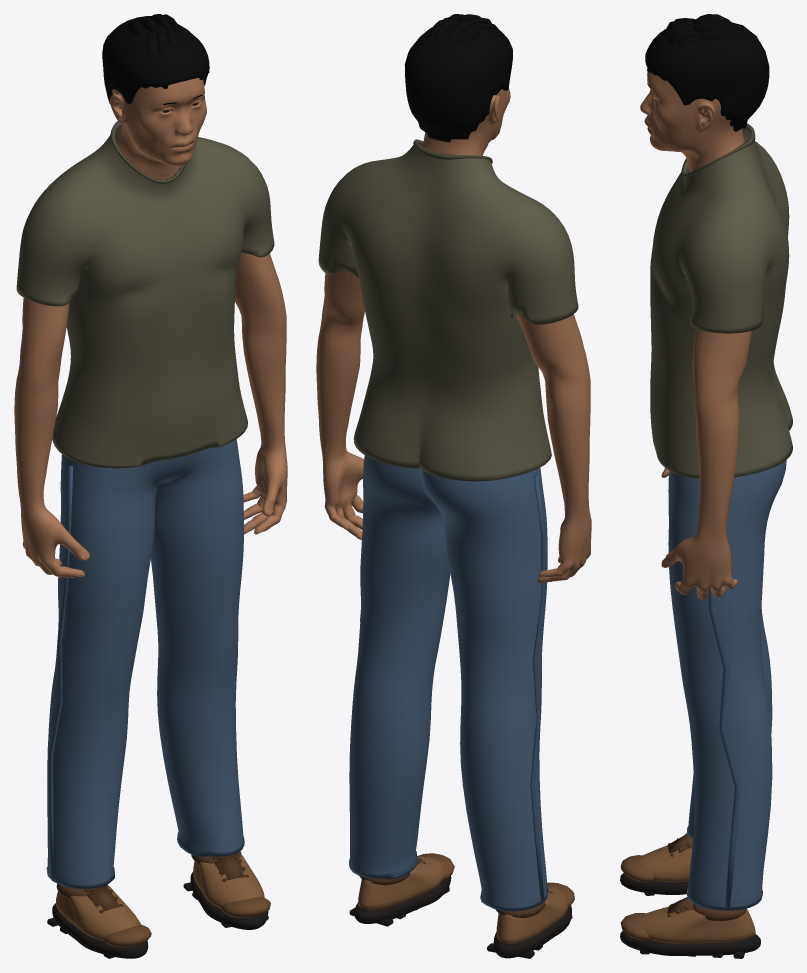
Rendered from alex_wen_set01.glb.
The picture shows the model from 3 angles, left to right: view 1: azimuth 30°, elevation 25°; view 2: azimuth 150°, elevation 25°; view 3: azimuth 270°, elevation 25°; orthographic projection.
Visible parts, largest first — view 1: Legs_Jeans, Torso_TShirt, Arms_Skin, Head_Skin, Head_Hair_Cap, Legs_Shoe_Upper_R, Legs_Shoe_Upper_L, Legs_Jeans_Outseam_R, Legs_Shoe_Sole_R, Legs_Shoe_Sole_L, Legs_Shoe_ToeCap_L, Legs_Shoe_ToeCap_R; view 2: Legs_Jeans, Torso_TShirt, Arms_Skin, Head_Hair_Cap, Legs_Shoe_Upper_L, Legs_Jeans_Outseam_R, Head_Skin, Legs_Shoe_Upper_R, Legs_Shoe_Sole_L, Legs_Shoe_Sole_R; view 3: Torso_TShirt, Legs_Jeans, Arms_Skin, Head_Hair_Cap, Head_Skin, Legs_Shoe_Upper_L, Legs_Jeans_Outseam_L, Legs_Shoe_Sole_L, Legs_Shoe_Upper_R, Legs_Shoe_Sole_R, Legs_Shoe_ToeCap_R, Legs_Shoe_ToeCap_L (+2 smaller).
Part boxes in pixels (x1,y1,x2,y2): Legs_Jeans: [47, 439, 243, 885]; Torso_TShirt: [16, 122, 274, 468]; Arms_Skin: [14, 253, 287, 577]; Head_Skin: [109, 78, 206, 179]; Head_Hair_Cap: [102, 16, 209, 104]; Legs_Shoe_Upper_R: [56, 885, 140, 940]; Legs_Shoe_Upper_L: [193, 854, 264, 908]; Legs_Jeans_Outseam_R: [48, 465, 73, 878]; Legs_Shoe_Sole_R: [52, 903, 148, 958]; Legs_Shoe_Sole_L: [190, 871, 268, 929]; Legs_Shoe_ToeCap_L: [221, 897, 270, 917]; Legs_Shoe_ToeCap_R: [104, 924, 151, 947]; Legs_Jeans: [349, 455, 547, 908]; Torso_TShirt: [318, 141, 578, 481]; Arms_Skin: [316, 271, 591, 583]; Head_Hair_Cap: [404, 20, 512, 142]; Legs_Shoe_Upper_L: [358, 856, 444, 909]; Legs_Jeans_Outseam_R: [530, 475, 545, 902]; Head_Skin: [422, 87, 510, 155]; Legs_Shoe_Upper_R: [496, 886, 568, 943]; Legs_Shoe_Sole_L: [354, 876, 451, 923]; Legs_Shoe_Sole_R: [493, 905, 571, 958]; Torso_TShirt: [650, 125, 792, 478]; Legs_Jeans: [668, 460, 786, 907]; Arms_Skin: [661, 329, 751, 599]; Head_Hair_Cap: [645, 21, 769, 131]; Head_Skin: [640, 71, 744, 171]; Legs_Shoe_Upper_L: [639, 906, 755, 943]; Legs_Jeans_Outseam_L: [708, 588, 740, 908]; Legs_Shoe_Sole_L: [620, 931, 760, 955]; Legs_Shoe_Upper_R: [639, 845, 691, 882]; Legs_Shoe_Sole_R: [620, 873, 688, 894]; Legs_Shoe_ToeCap_R: [620, 855, 655, 882]; Legs_Shoe_ToeCap_L: [620, 913, 651, 940].
Bounding box in the file's own units: 0.5513 × 1.78 × 0.3112.
